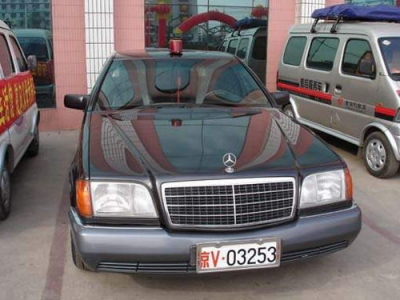plate_number: (195, 238, 281, 273)
